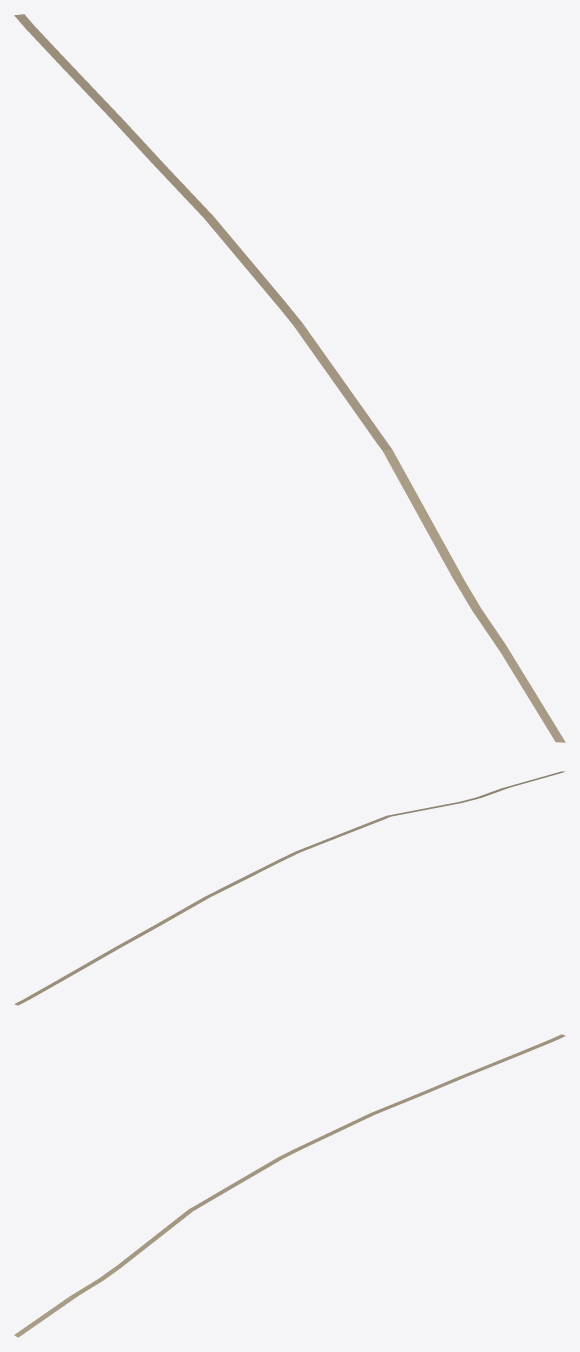
File: farm_-33_-25_track.glb
3 renders of one model, top to bottom at view 1: azimuth 30°, elevation 25°; view 2: azimuth 150°, elevation 25°; view 3: azimuth 330°, elevation 25°, orthographic. The views are drawn at different scales.
Parts seen in each view (by area): view 1: geometry_0; view 2: geometry_0; view 3: geometry_0.
Boxes of the visible parts, <box> form: geometry_0: <box>14,14,565,742</box>; geometry_0: <box>14,771,565,1005</box>; geometry_0: <box>14,1034,565,1337</box>.
Size of the model in its own units: 96.51 by 32.7 by 486.
